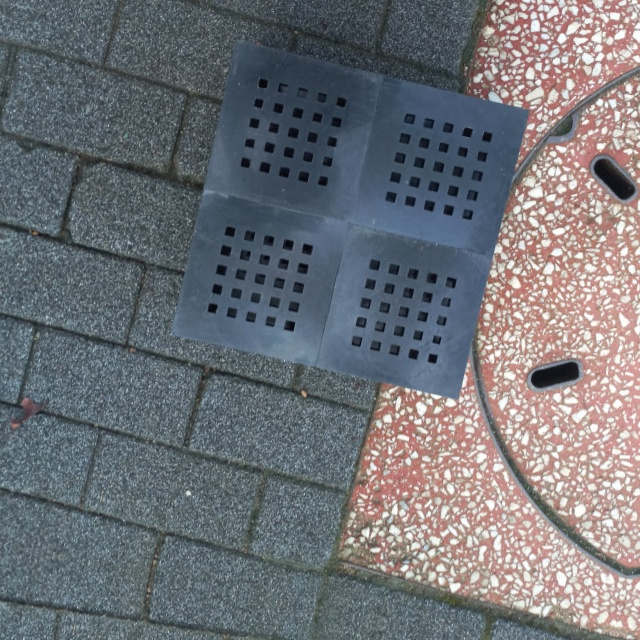pallet: (159, 23, 535, 422)
